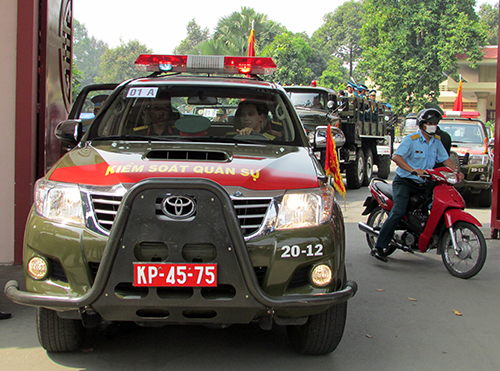plate: (131, 260, 219, 289)
